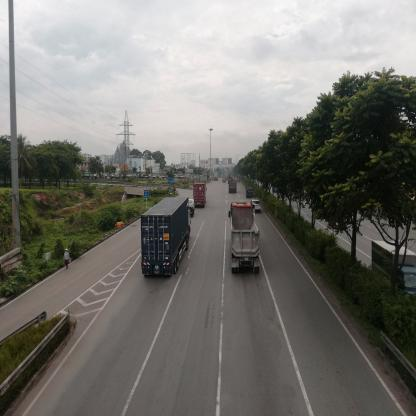car: (252, 198, 262, 215)
container: (142, 198, 190, 276), (196, 184, 208, 209)
truck: (373, 241, 416, 296), (233, 204, 256, 275), (229, 182, 238, 194), (187, 201, 195, 214), (247, 188, 255, 198)
